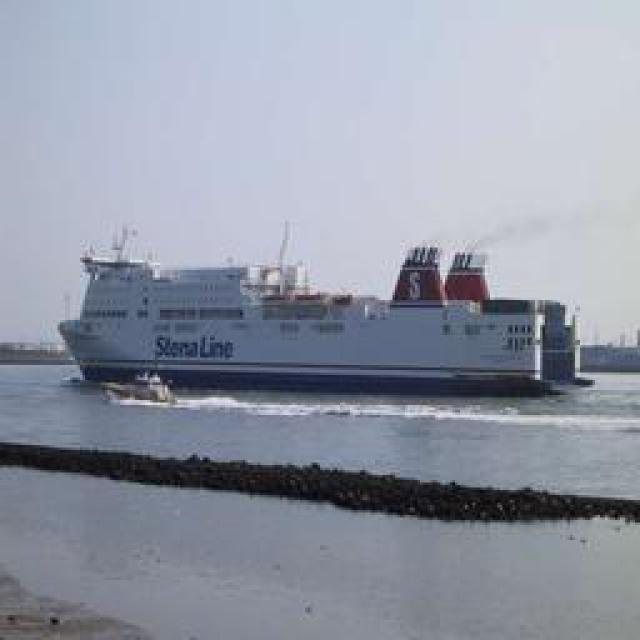Ship: (46, 225, 596, 398)
